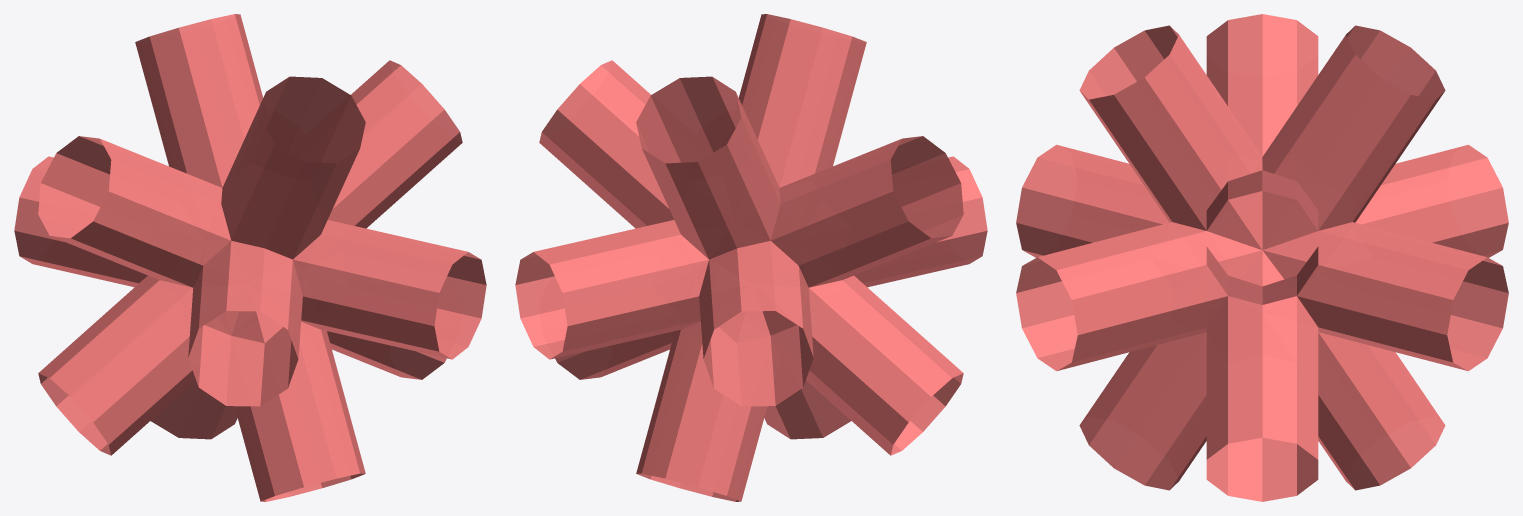
Rendered from SmallIcosihemidodecacron.obj.
3 views of the same model, side by side, from view 1: azimuth 30°, elevation 25°; view 2: azimuth 150°, elevation 25°; view 3: azimuth 270°, elevation 25° (orthographic). The views are drawn at different scales.
Size of the model in its own units: 13.61 by 13.61 by 13.61.
